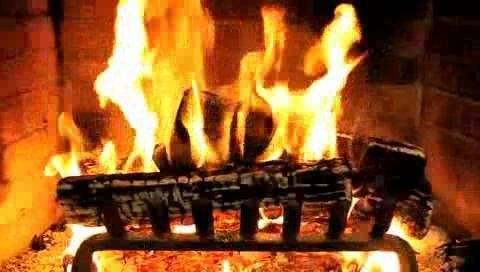fire: (92, 4, 363, 167)
